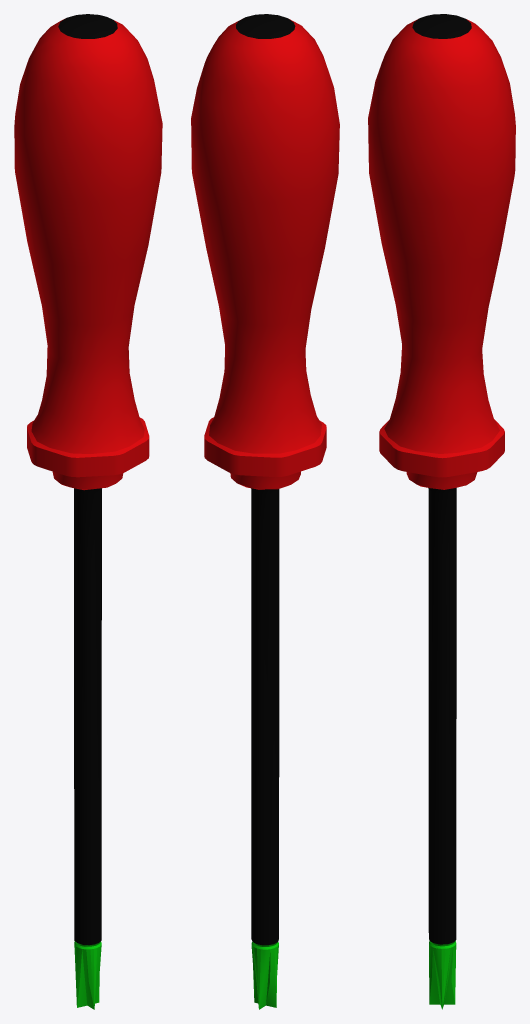
File: Obeng Plus.fbx
3 views of the same model, side by side, from view 1: azimuth 30°, elevation 25°; view 2: azimuth 150°, elevation 25°; view 3: azimuth 270°, elevation 25° (orthographic).
Visible parts, largest first — view 1: Obeng Plus; view 2: Obeng Plus; view 3: Obeng Plus.
Part boxes in pixels (x1,y1,x2,y2): Obeng Plus: (14,14,162,1009); Obeng Plus: (191,14,339,1009); Obeng Plus: (368,14,515,1009).
Bounding box in the file's own units: 2.9 × 21 × 2.87.
